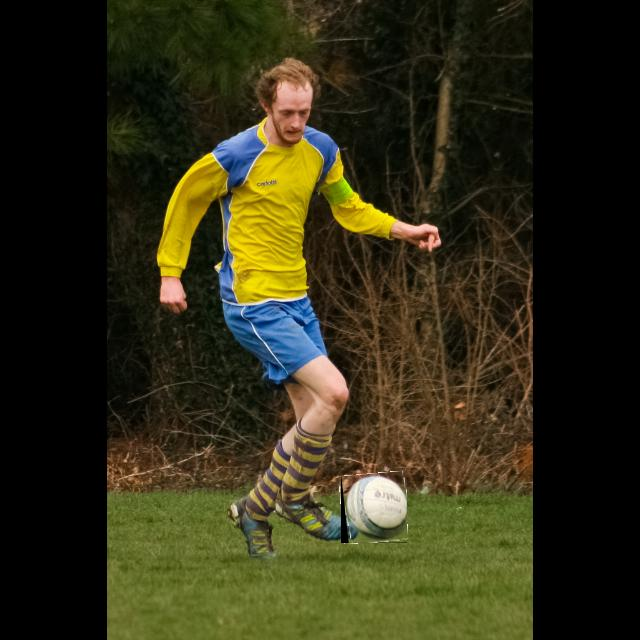Football: (341, 473, 407, 543)
